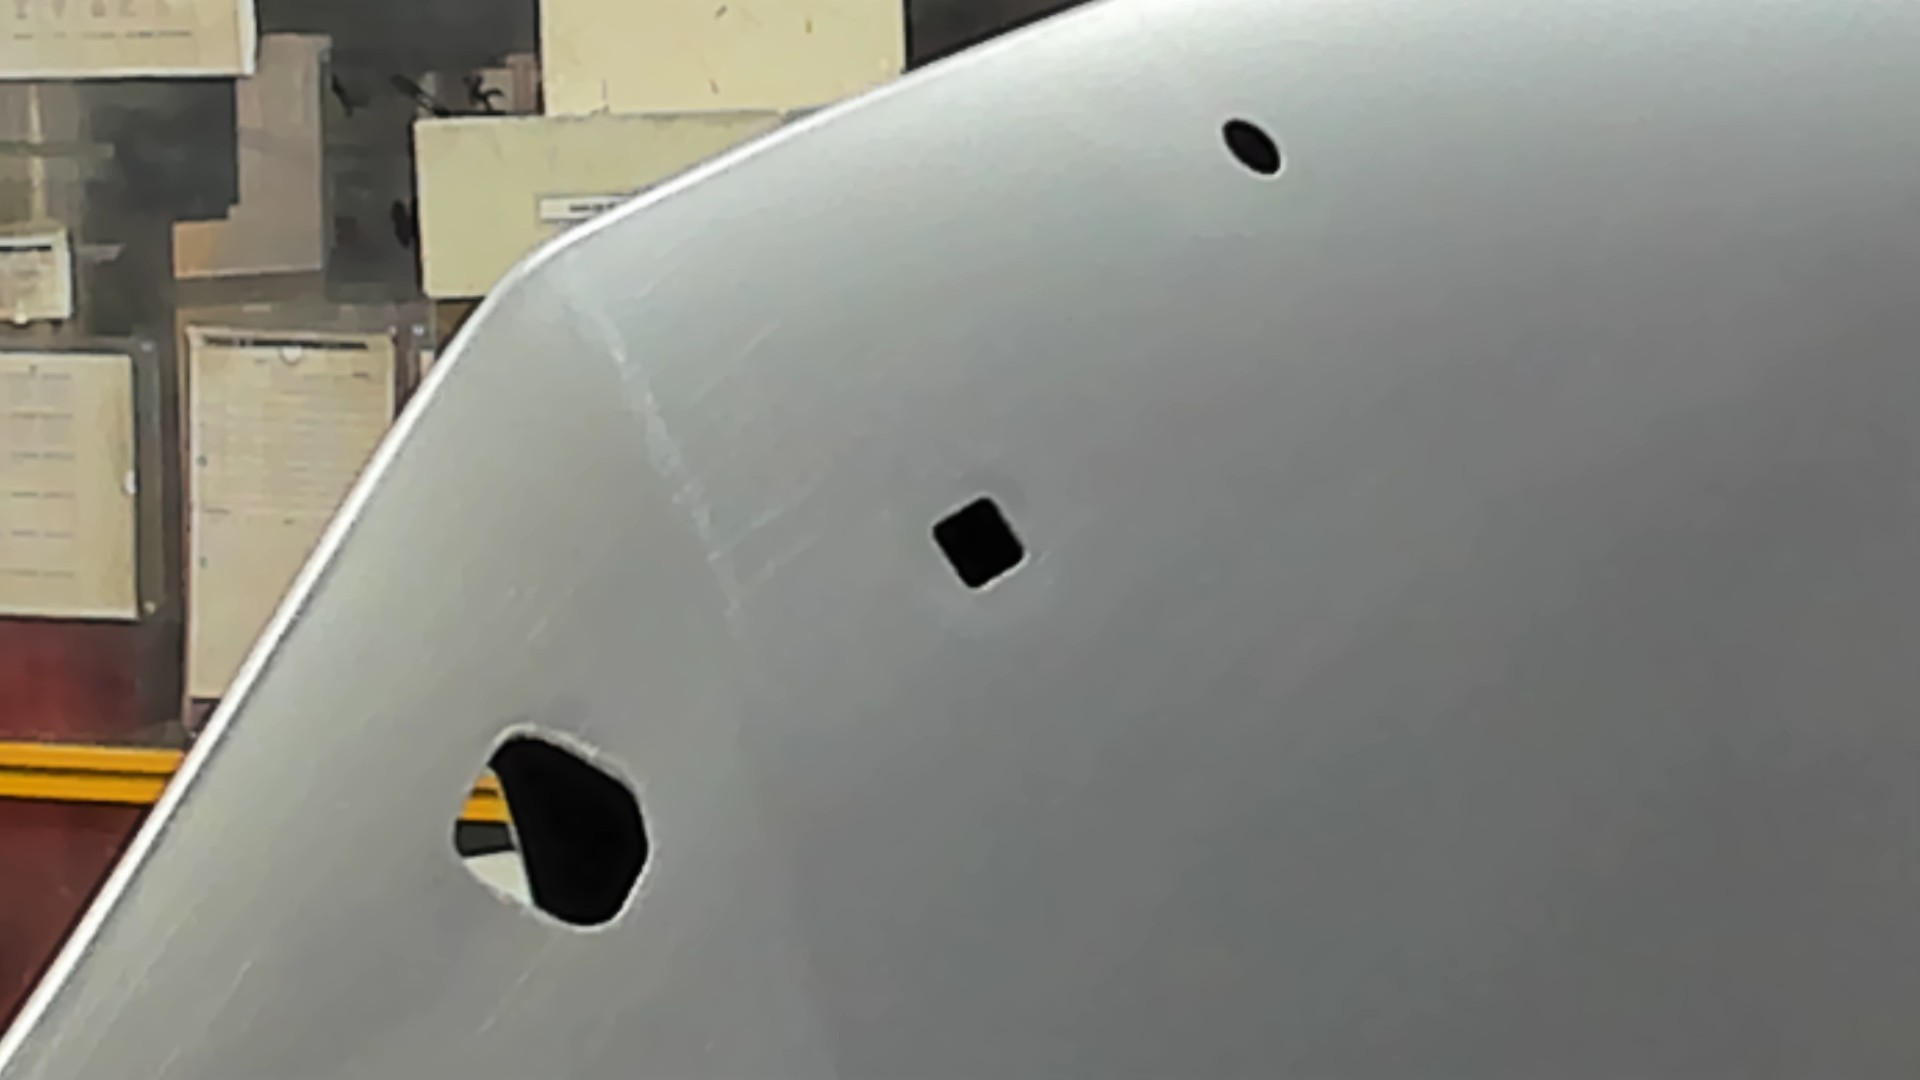chico: (1218, 113, 1287, 179)
grande: (447, 717, 657, 938)
mediano: (928, 491, 1033, 592)
